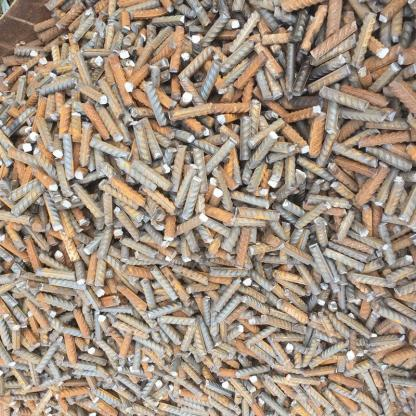rebar: (1, 6, 412, 413)
